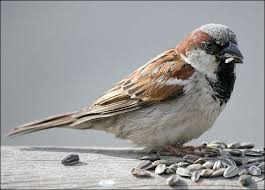hsparrow: (9, 20, 249, 171)
